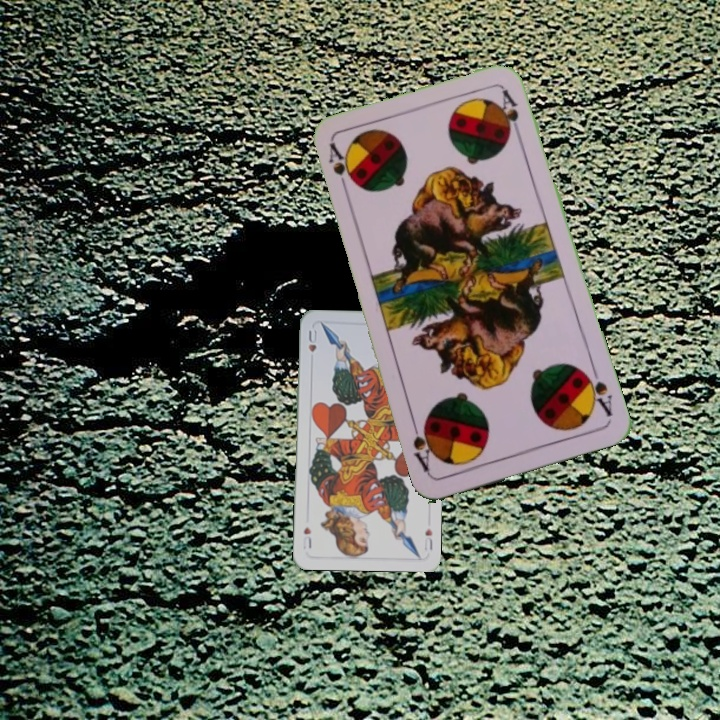HU: (305, 326, 319, 355), (421, 524, 435, 553)
SA: (578, 362, 615, 420), (324, 140, 352, 199)
